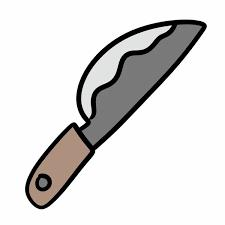Knife: (24, 18, 206, 209)
